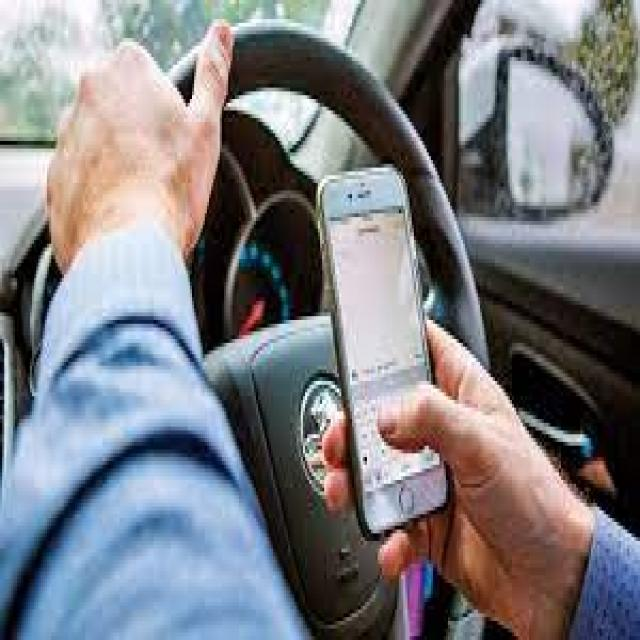Cellphone_texting: (305, 152, 529, 618)
